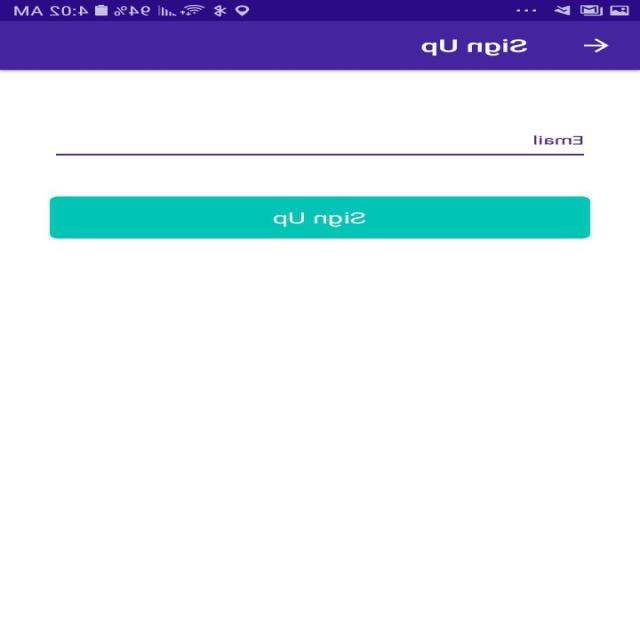Icon: (583, 38, 610, 53)
Text: (57, 135, 585, 156), (421, 38, 528, 56)
TextButton: (49, 196, 592, 238)
